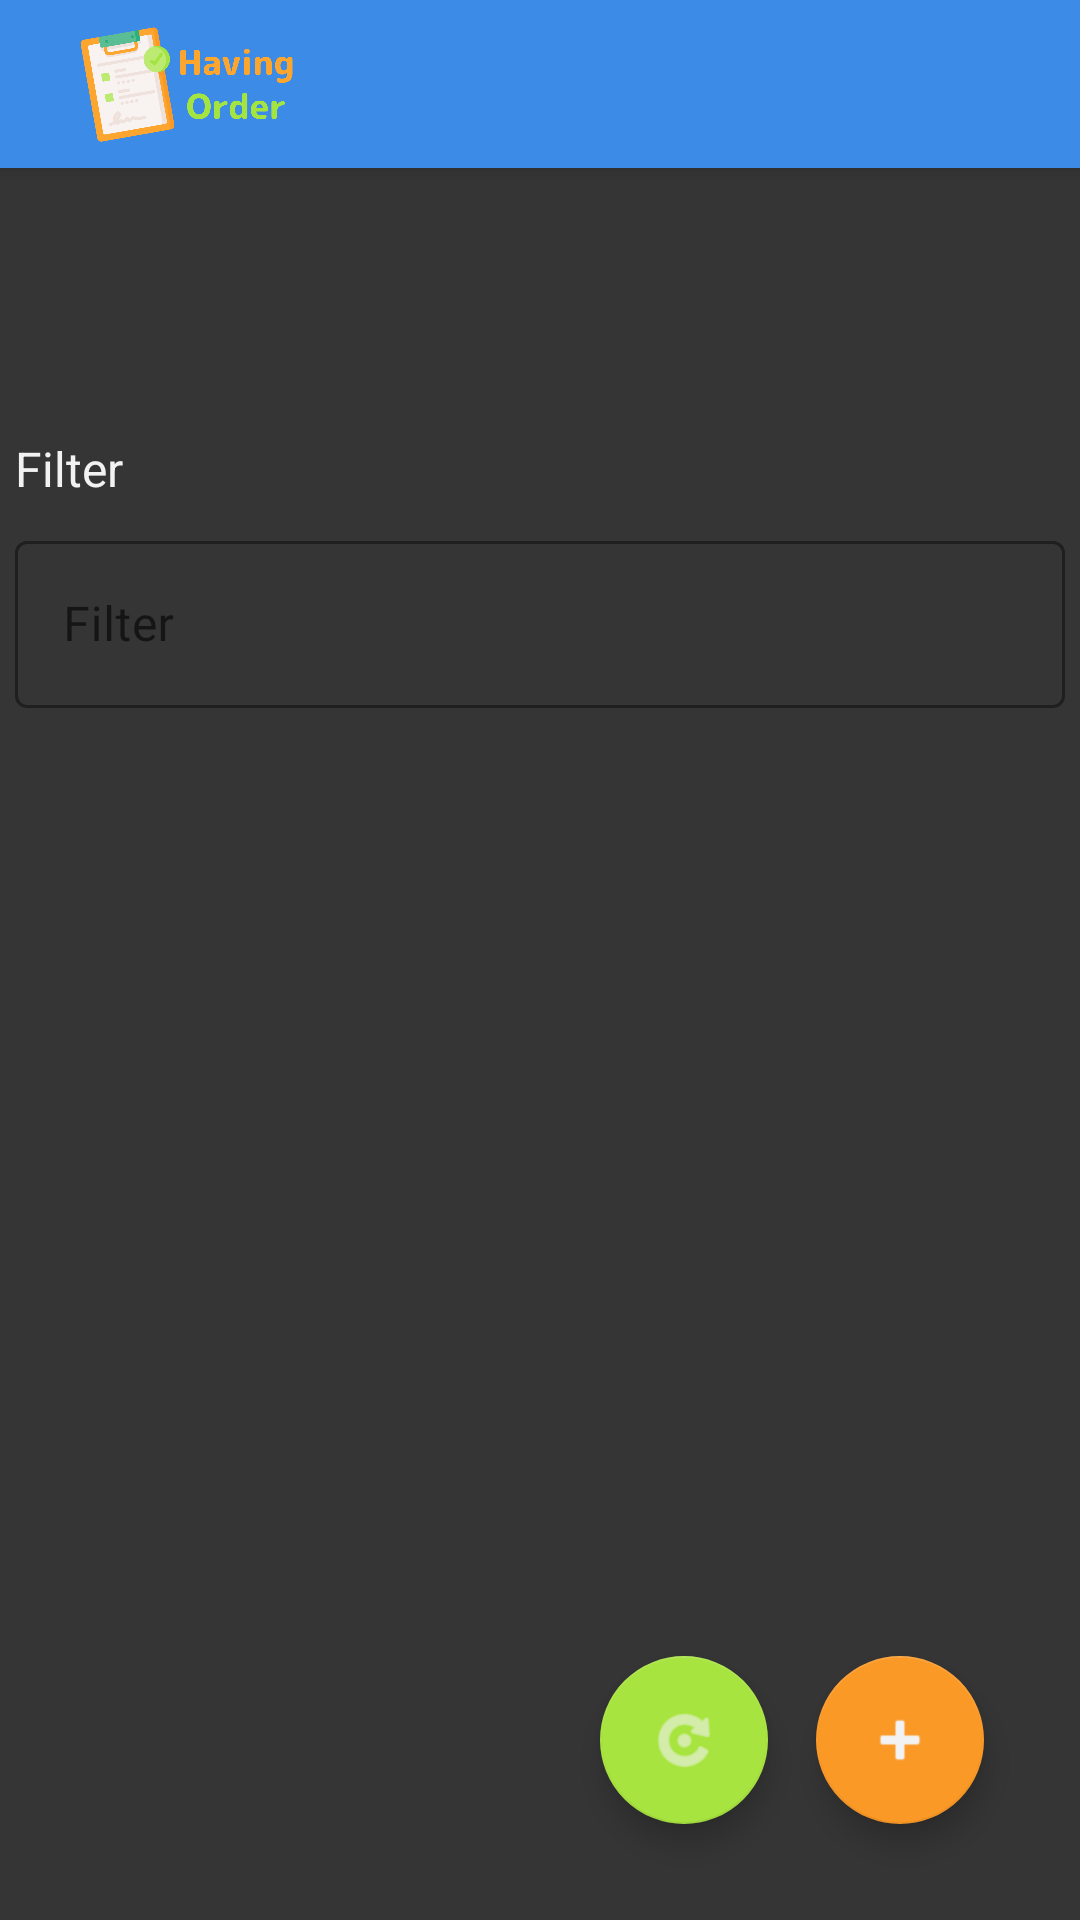

Where icons sit on this 1080px x 1920px app screen, as (x1, y1, x2, y2):
Add User: (816, 1656, 984, 1824)
Reload: (600, 1656, 768, 1824)
